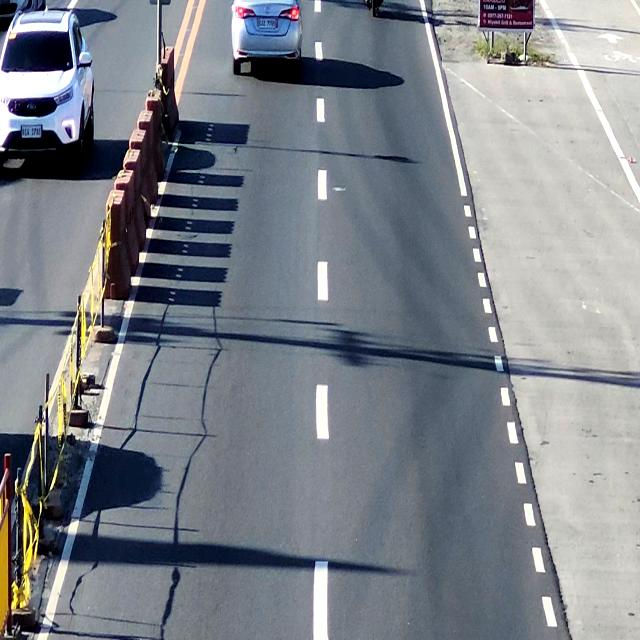Car: (232, 0, 303, 73)
